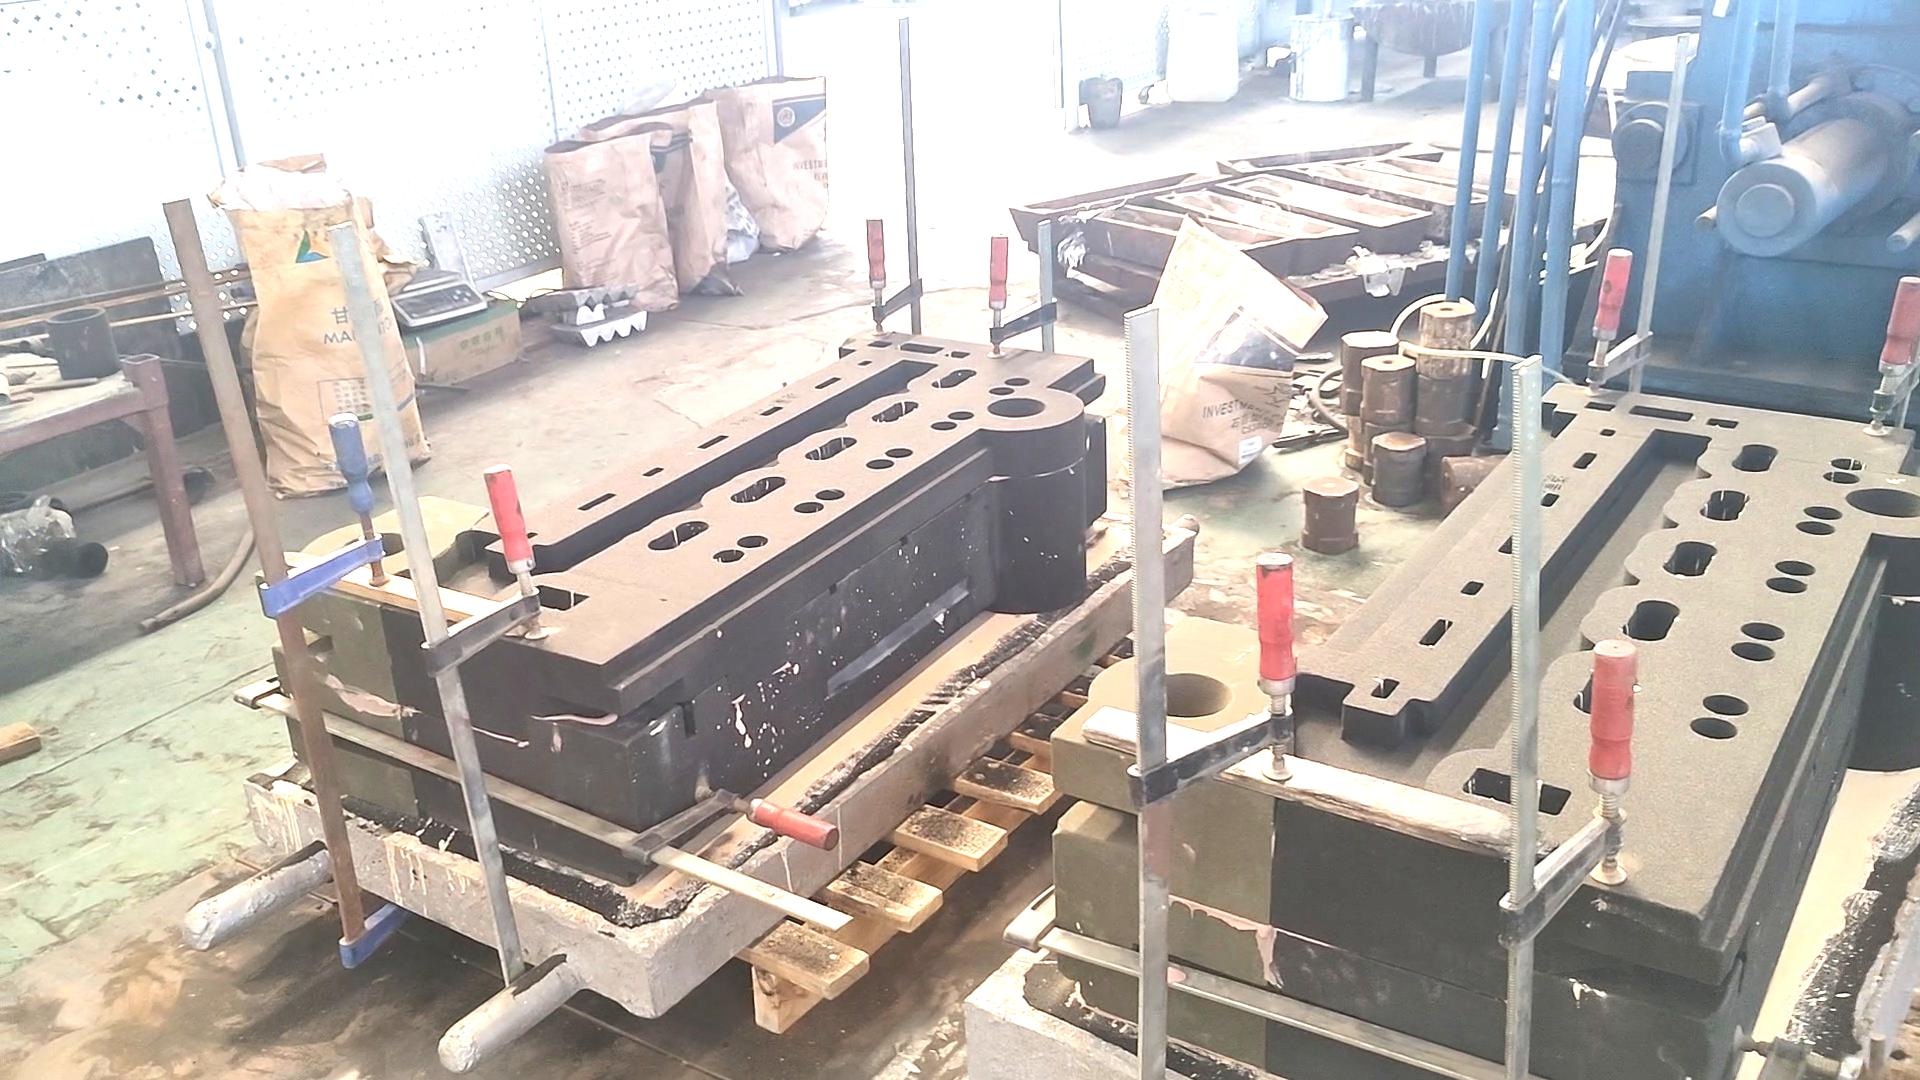pouring hole: (1149, 671, 1232, 717), (1845, 488, 1920, 520), (338, 531, 409, 560), (44, 305, 105, 323), (986, 398, 1046, 417)
